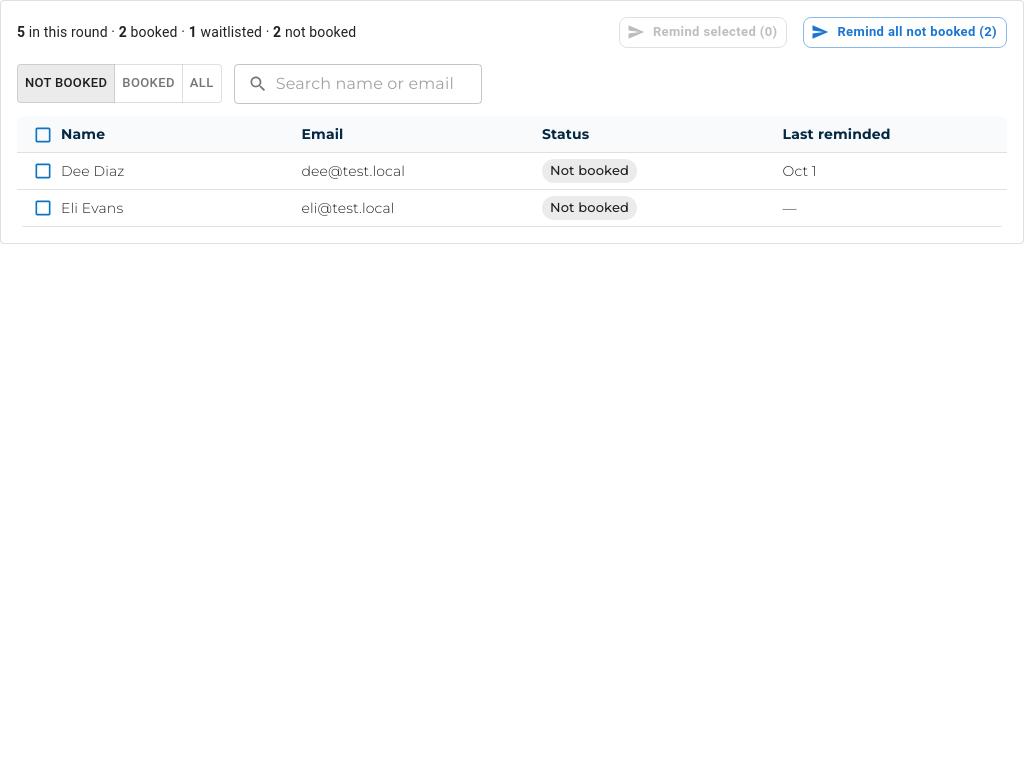
Test: RoundSignupStatus › keeps the dialog open with the server message when the send is refused
The image size is (1024, 768).
Click the button "Remind all not booked (2)". click: click(905, 32)
box: [803, 17, 1007, 48]
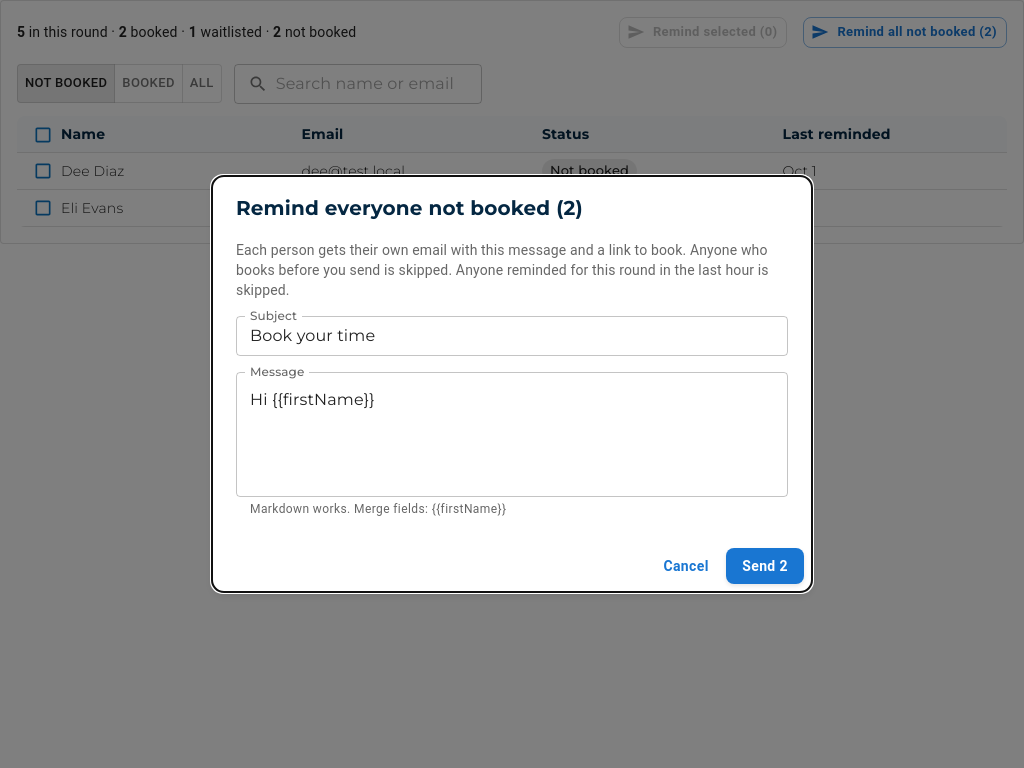
Click the button "Send 2". click: click(765, 566)
box: [726, 548, 804, 584]
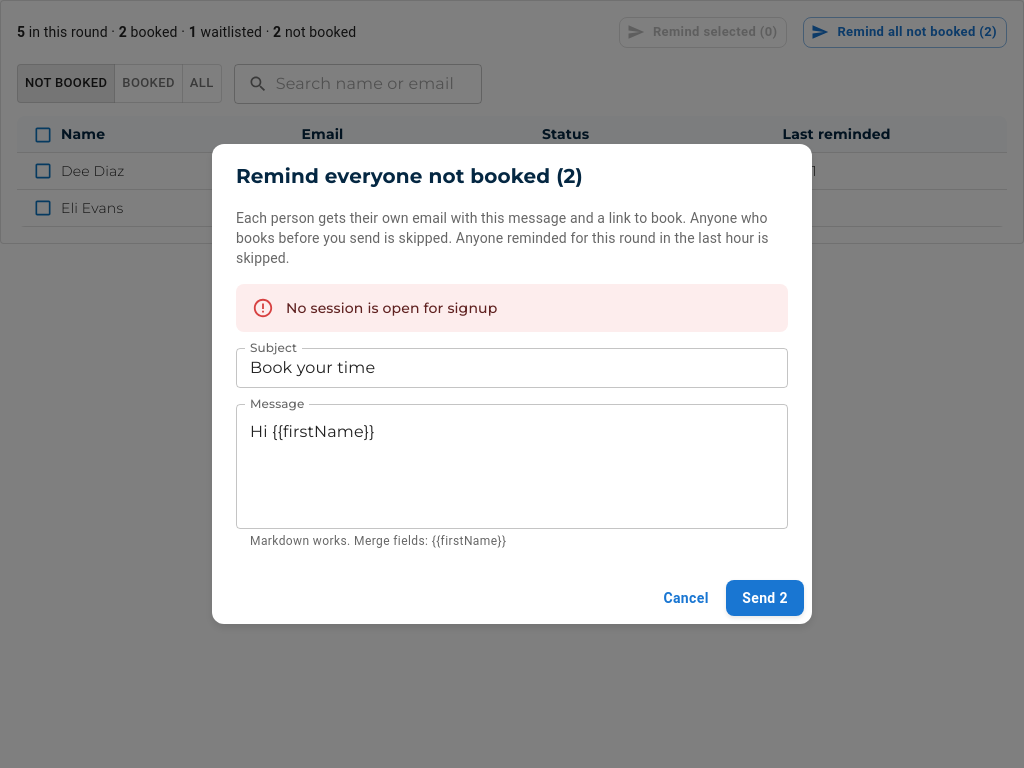
Check: the text "No session is open for signup" is shown, box [286, 299, 497, 317]
